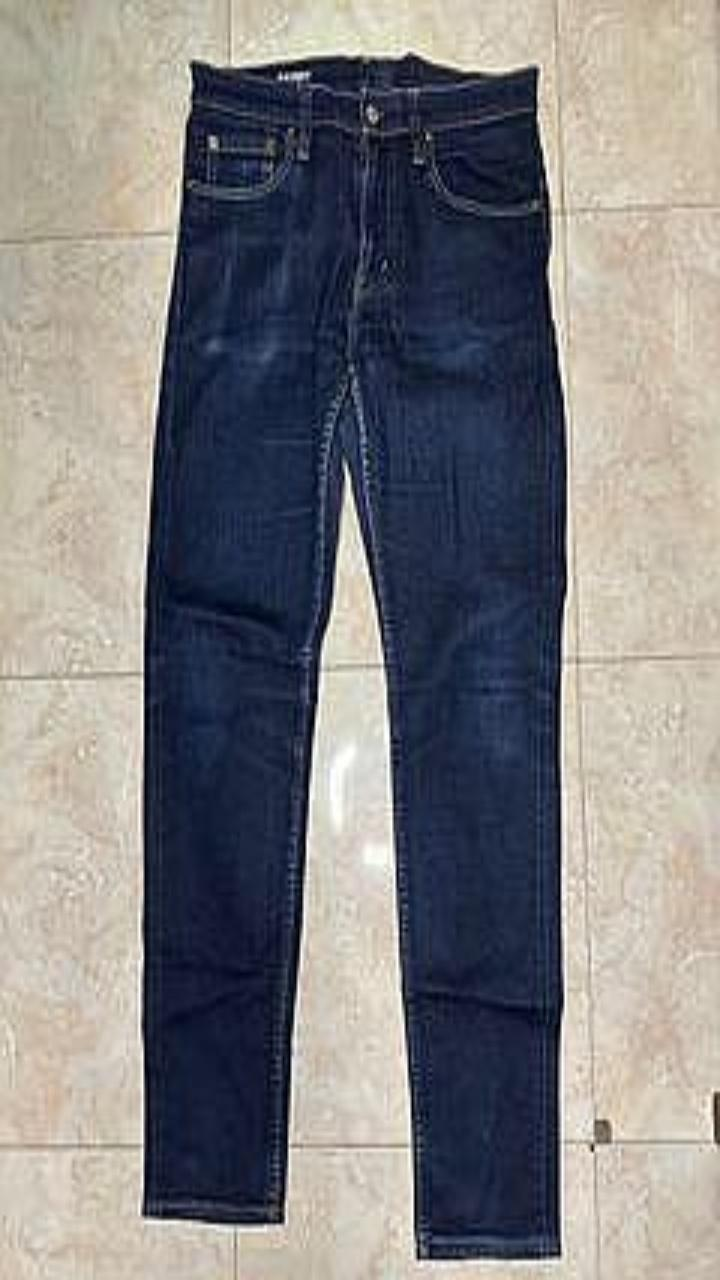Jeans: (142, 53, 565, 1258)
